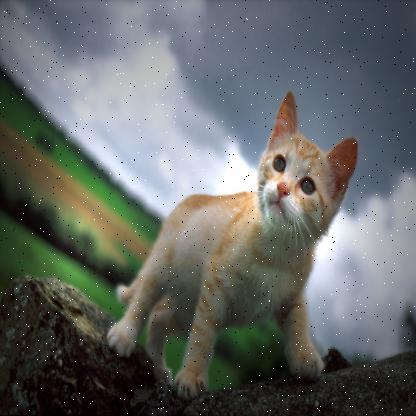cat: (101, 88, 365, 403)
